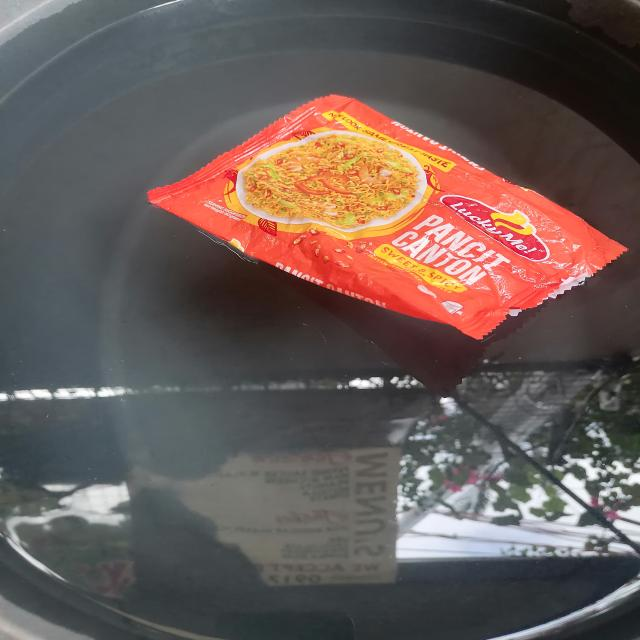Plastic Wrapper: (119, 74, 640, 358)
